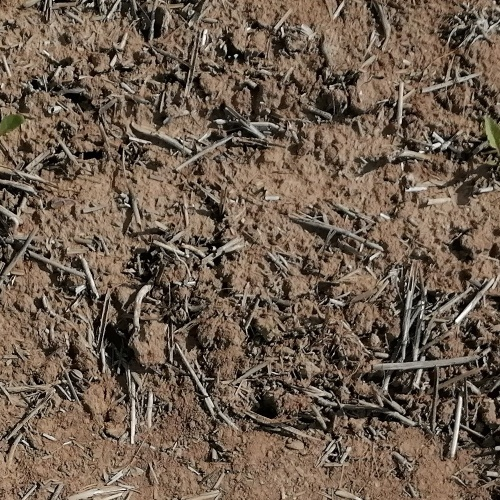beet: (479, 116, 500, 155), (0, 111, 26, 136)
